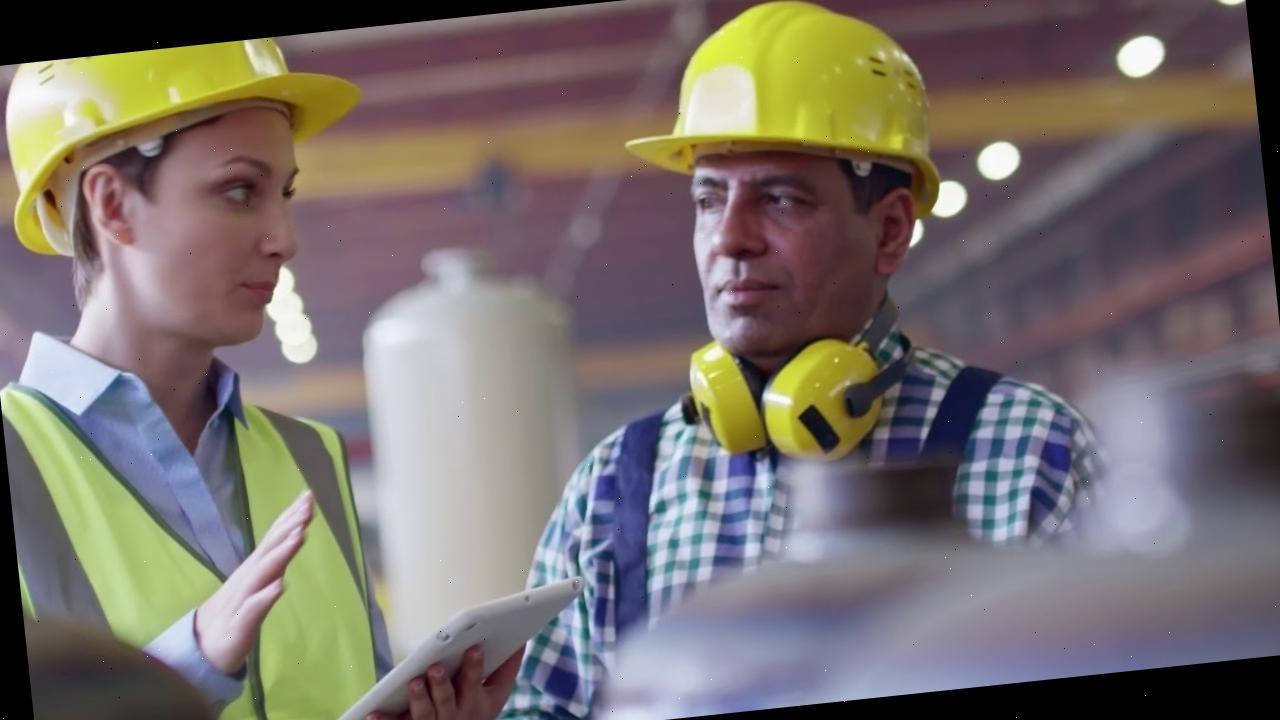helmet: (0, 28, 380, 269), (610, 0, 956, 245)
wear: (506, 365, 1127, 720), (0, 359, 405, 720)
